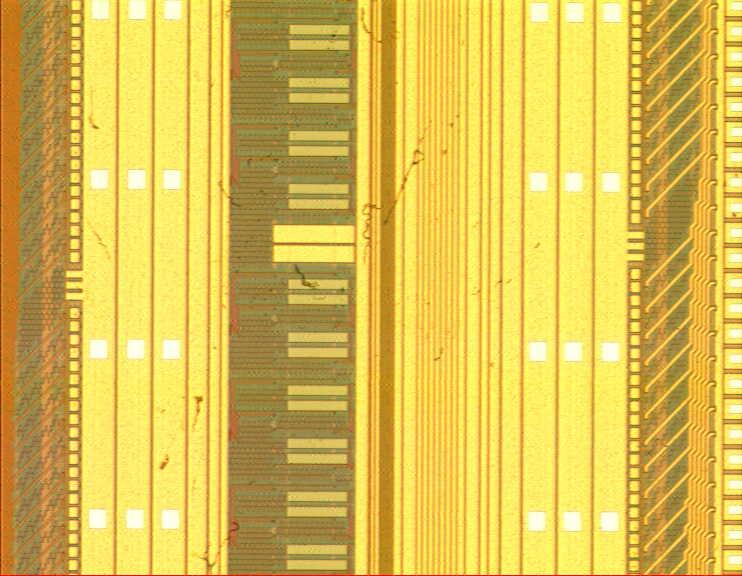PO CONTAMINATION: (122, 4, 550, 576)
